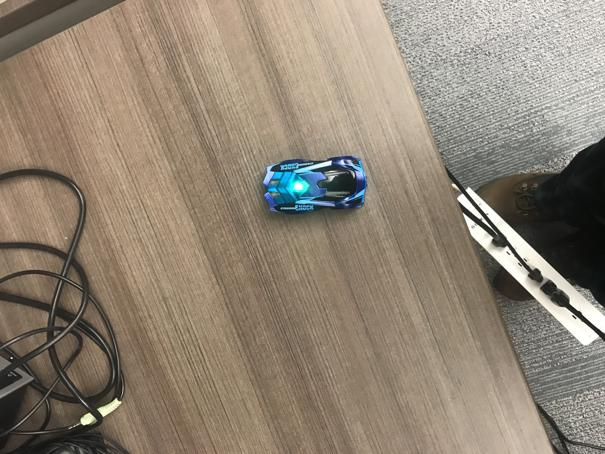Shock: (262, 155, 367, 215)
